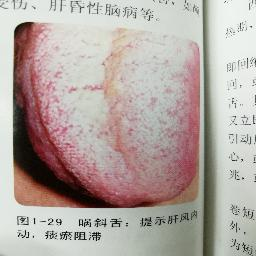tongue: (15, 23, 200, 206)
